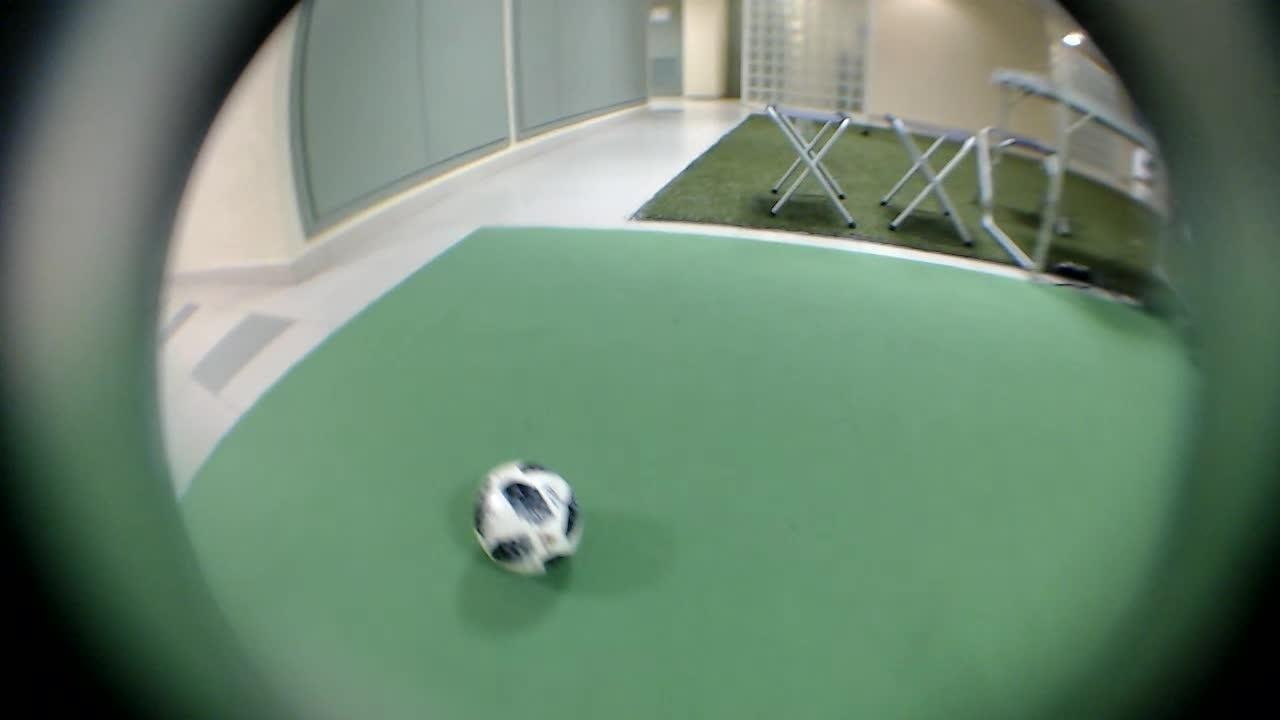ball: (457, 438, 606, 584)
